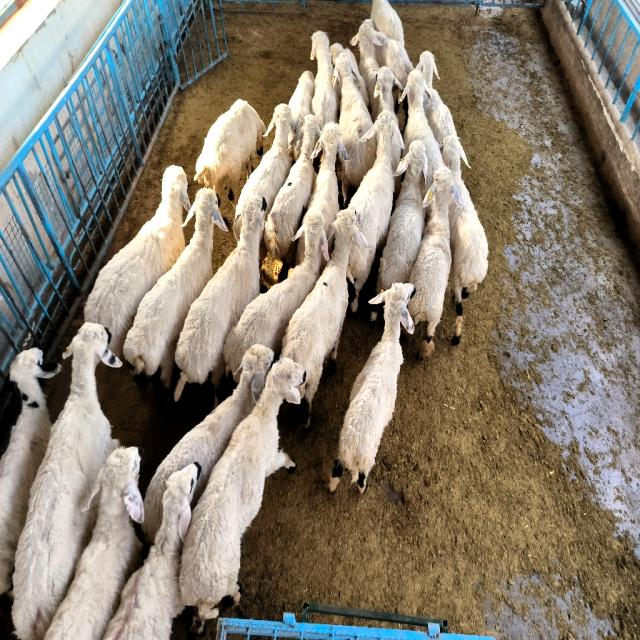sheep: (179, 357, 306, 632), (12, 323, 121, 638), (142, 345, 274, 542), (124, 188, 228, 391), (84, 165, 190, 358), (281, 207, 369, 429), (174, 195, 266, 404), (45, 447, 144, 638), (329, 283, 415, 492), (224, 213, 329, 382), (104, 463, 200, 640), (0, 348, 60, 594), (348, 110, 402, 312), (442, 135, 489, 344), (409, 167, 460, 358), (232, 103, 295, 239), (264, 115, 321, 259), (376, 140, 428, 292), (194, 100, 265, 199), (332, 47, 376, 204), (401, 68, 444, 186), (306, 122, 349, 229), (416, 52, 456, 148), (311, 32, 339, 128), (350, 18, 380, 106), (289, 70, 315, 162), (370, 0, 405, 46)
